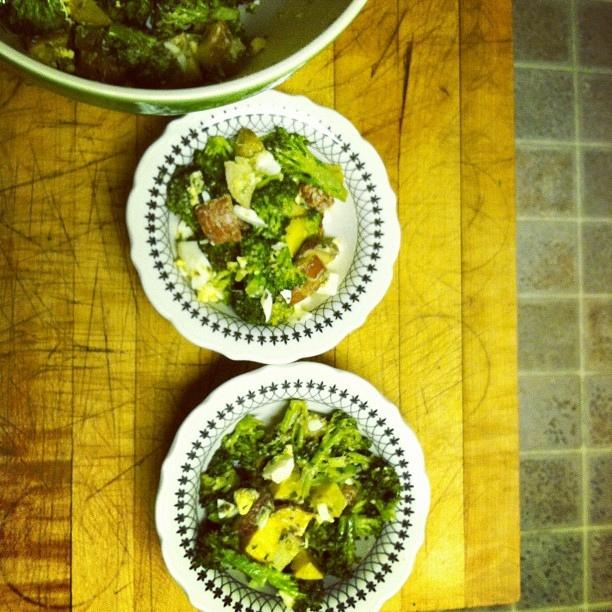broccoli: (264, 124, 349, 202), (195, 524, 273, 588), (304, 514, 361, 582), (257, 399, 319, 459), (310, 410, 374, 466), (250, 178, 308, 236), (193, 21, 246, 77), (164, 165, 205, 236), (161, 34, 210, 86), (221, 414, 266, 470), (268, 570, 326, 612), (277, 209, 322, 263), (197, 261, 247, 306), (0, 0, 67, 33), (193, 136, 234, 185), (265, 246, 307, 292), (76, 49, 127, 86), (206, 7, 250, 48), (150, 1, 210, 31), (350, 500, 386, 539), (148, 43, 179, 88), (233, 290, 266, 326), (111, 0, 153, 27), (38, 46, 76, 74), (200, 469, 240, 494), (240, 235, 272, 266), (227, 256, 265, 282), (208, 449, 235, 475), (328, 451, 352, 467)
